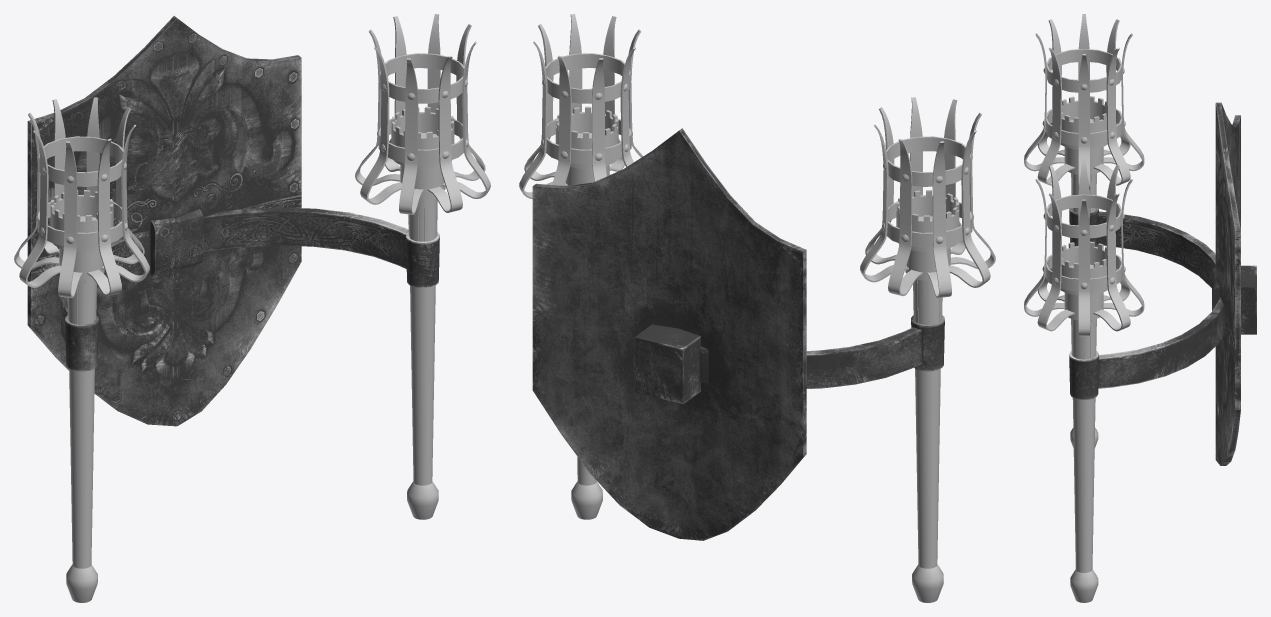
Rendered from SM_WallSconce_01.fbx.
The picture shows the model from 3 angles, left to right: view 1: azimuth 30°, elevation 25°; view 2: azimuth 150°, elevation 25°; view 3: azimuth 270°, elevation 25°; orthographic projection. The views are drawn at different scales.
Visible parts, largest first — view 1: SM_WallSonce_01; view 2: SM_WallSonce_01; view 3: SM_WallSonce_01.
Boxes of the visible parts, x1=… form: SM_WallSonce_01: x1=14, y1=14, x2=490, y2=602; SM_WallSonce_01: x1=519, y1=14, x2=995, y2=602; SM_WallSonce_01: x1=1024, y1=14, x2=1256, y2=602.
Size of the model in its own units: 84.97 by 85.49 by 42.56.
